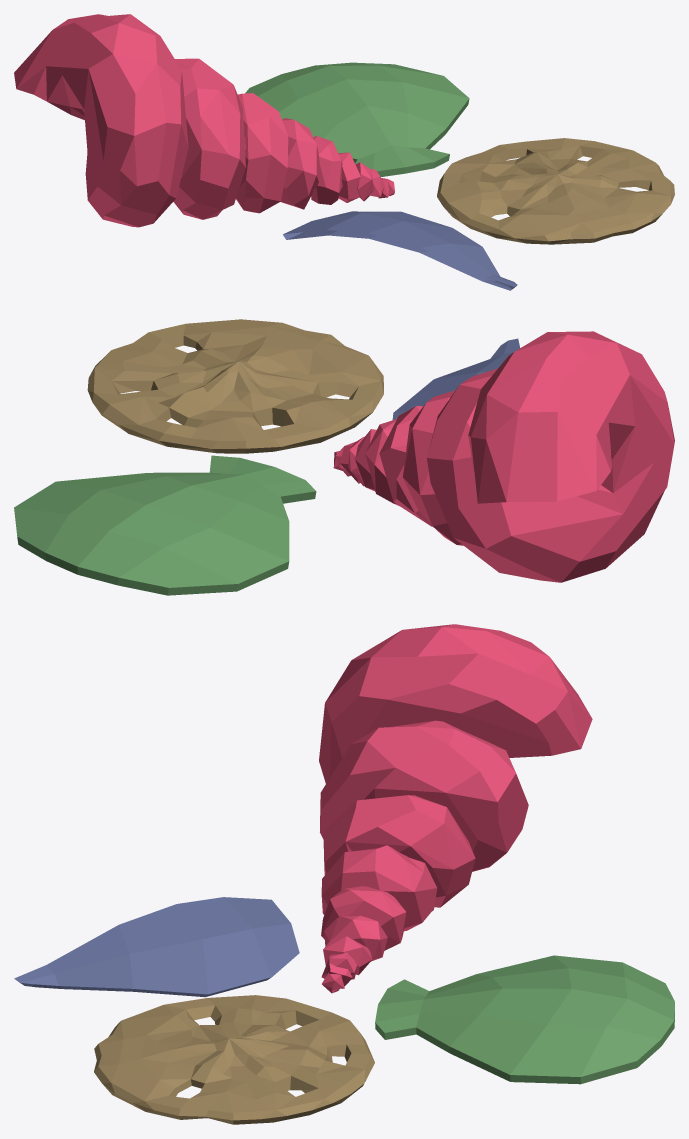
The model's file is Shells.glb.
The picture shows the model from 3 angles, top to bottom: view 1: azimuth 30°, elevation 25°; view 2: azimuth 150°, elevation 25°; view 3: azimuth 270°, elevation 25°; orthographic projection. The views are drawn at different scales.
Parts seen in each view (by area): view 1: BigShell, SandDollar, Fan, Fan.001; view 2: BigShell, SandDollar, Fan, Fan.001; view 3: BigShell, SandDollar, Fan, Fan.001.
Boxes of the visible parts, left/top/right/bottom form: BigShell: left=14, top=14, right=394, bottom=227; SandDollar: left=437, top=138, right=674, bottom=244; Fan: left=245, top=62, right=469, bottom=176; Fan.001: left=283, top=211, right=517, bottom=290; BigShell: left=333, top=331, right=674, bottom=582; SandDollar: left=87, top=319, right=383, bottom=453; Fan: left=14, top=455, right=316, bottom=595; Fan.001: left=392, top=338, right=519, bottom=419; BigShell: left=319, top=624, right=592, bottom=993; SandDollar: left=94, top=995, right=374, bottom=1124; Fan: left=375, top=955, right=674, bottom=1084; Fan.001: left=14, top=897, right=299, bottom=997.
Bounding box in the file's own units: 5.2 × 1.9 × 4.81.
